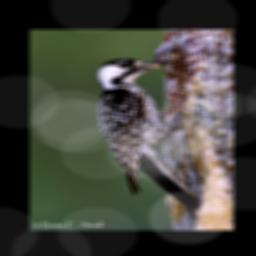Woodpecker: (94, 58, 198, 215)
